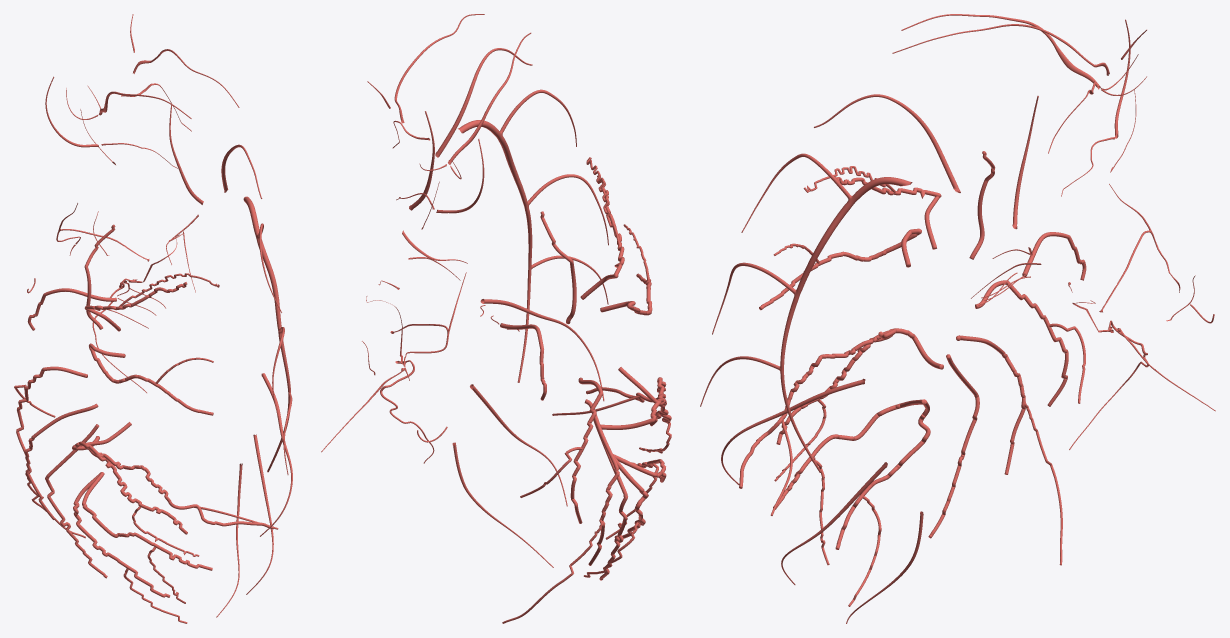
3 views of the same model, side by side, from view 1: azimuth 30°, elevation 25°; view 2: azimuth 150°, elevation 25°; view 3: azimuth 270°, elevation 25° (orthographic). The views are drawn at different scales.
Visible parts, largest first — view 1: Callosomarginal left, Central left, Posterior parietal left, Anterior parietal left, Precentral left, Angular left, Temporo-occipital left, Posterior temporal left, Prefrontal left, Middle temporal left, Paracentral left, Precuneal left (+2 smaller); view 2: Callosomarginal left, Middle temporal left, Posterior temporal left, Central left, Temporo-occipital left, ACA frontopolar left, Anterior parietal left, Prefrontal left, Paracentral left, MCA orbitofrontal left, Precentral left, Angular left (+3 smaller); view 3: Callosomarginal left, Central left, Precentral left, Anterior parietal left, Middle temporal left, Posterior parietal left, Temporo-occipital left, Angular left, Prefrontal left, Posterior temporal left, ACA frontopolar left, Paracentral left (+1 smaller).
Part boxes in pixels (bbox=[...]): Callosomarginal left: bbox=[243, 196, 290, 472]; Central left: bbox=[84, 422, 274, 529]; Posterior parietal left: bbox=[82, 472, 212, 570]; Anterior parietal left: bbox=[72, 436, 187, 534]; Precentral left: bbox=[89, 343, 213, 415]; Angular left: bbox=[73, 472, 170, 597]; Temporo-occipital left: bbox=[45, 424, 107, 578]; Posterior temporal left: bbox=[24, 403, 98, 519]; Prefrontal left: bbox=[84, 282, 187, 331]; Middle temporal left: bbox=[16, 366, 87, 455]; Paracentral left: bbox=[260, 373, 292, 536]; Precuneal left: bbox=[246, 434, 273, 594]; Callosomarginal left: bbox=[458, 120, 532, 382]; Middle temporal left: bbox=[570, 377, 603, 523]; Posterior temporal left: bbox=[584, 399, 619, 565]; Central left: bbox=[586, 367, 666, 406]; Temporo-occipital left: bbox=[593, 419, 627, 580]; ACA frontopolar left: bbox=[435, 48, 532, 157]; Anterior parietal left: bbox=[600, 397, 671, 429]; Prefrontal left: bbox=[580, 175, 624, 299]; Paracentral left: bbox=[480, 299, 604, 401]; MCA orbitofrontal left: bbox=[540, 211, 576, 324]; Precentral left: bbox=[600, 273, 652, 315]; Angular left: bbox=[614, 456, 647, 538]; Callosomarginal left: bbox=[780, 177, 912, 472]; Central left: bbox=[739, 328, 896, 488]; Precentral left: bbox=[759, 228, 921, 310]; Anterior parietal left: bbox=[776, 328, 943, 444]; Middle temporal left: bbox=[975, 280, 1068, 406]; Posterior parietal left: bbox=[773, 399, 924, 509]; Temporo-occipital left: bbox=[928, 354, 979, 538]; Angular left: bbox=[835, 399, 930, 549]; Prefrontal left: bbox=[835, 177, 941, 249]; Posterior temporal left: bbox=[956, 335, 1025, 474]; ACA frontopolar left: bbox=[814, 94, 960, 192]; Paracentral left: bbox=[721, 378, 865, 484].
Size of the model in its own units: 61.08 by 159 by 120.
